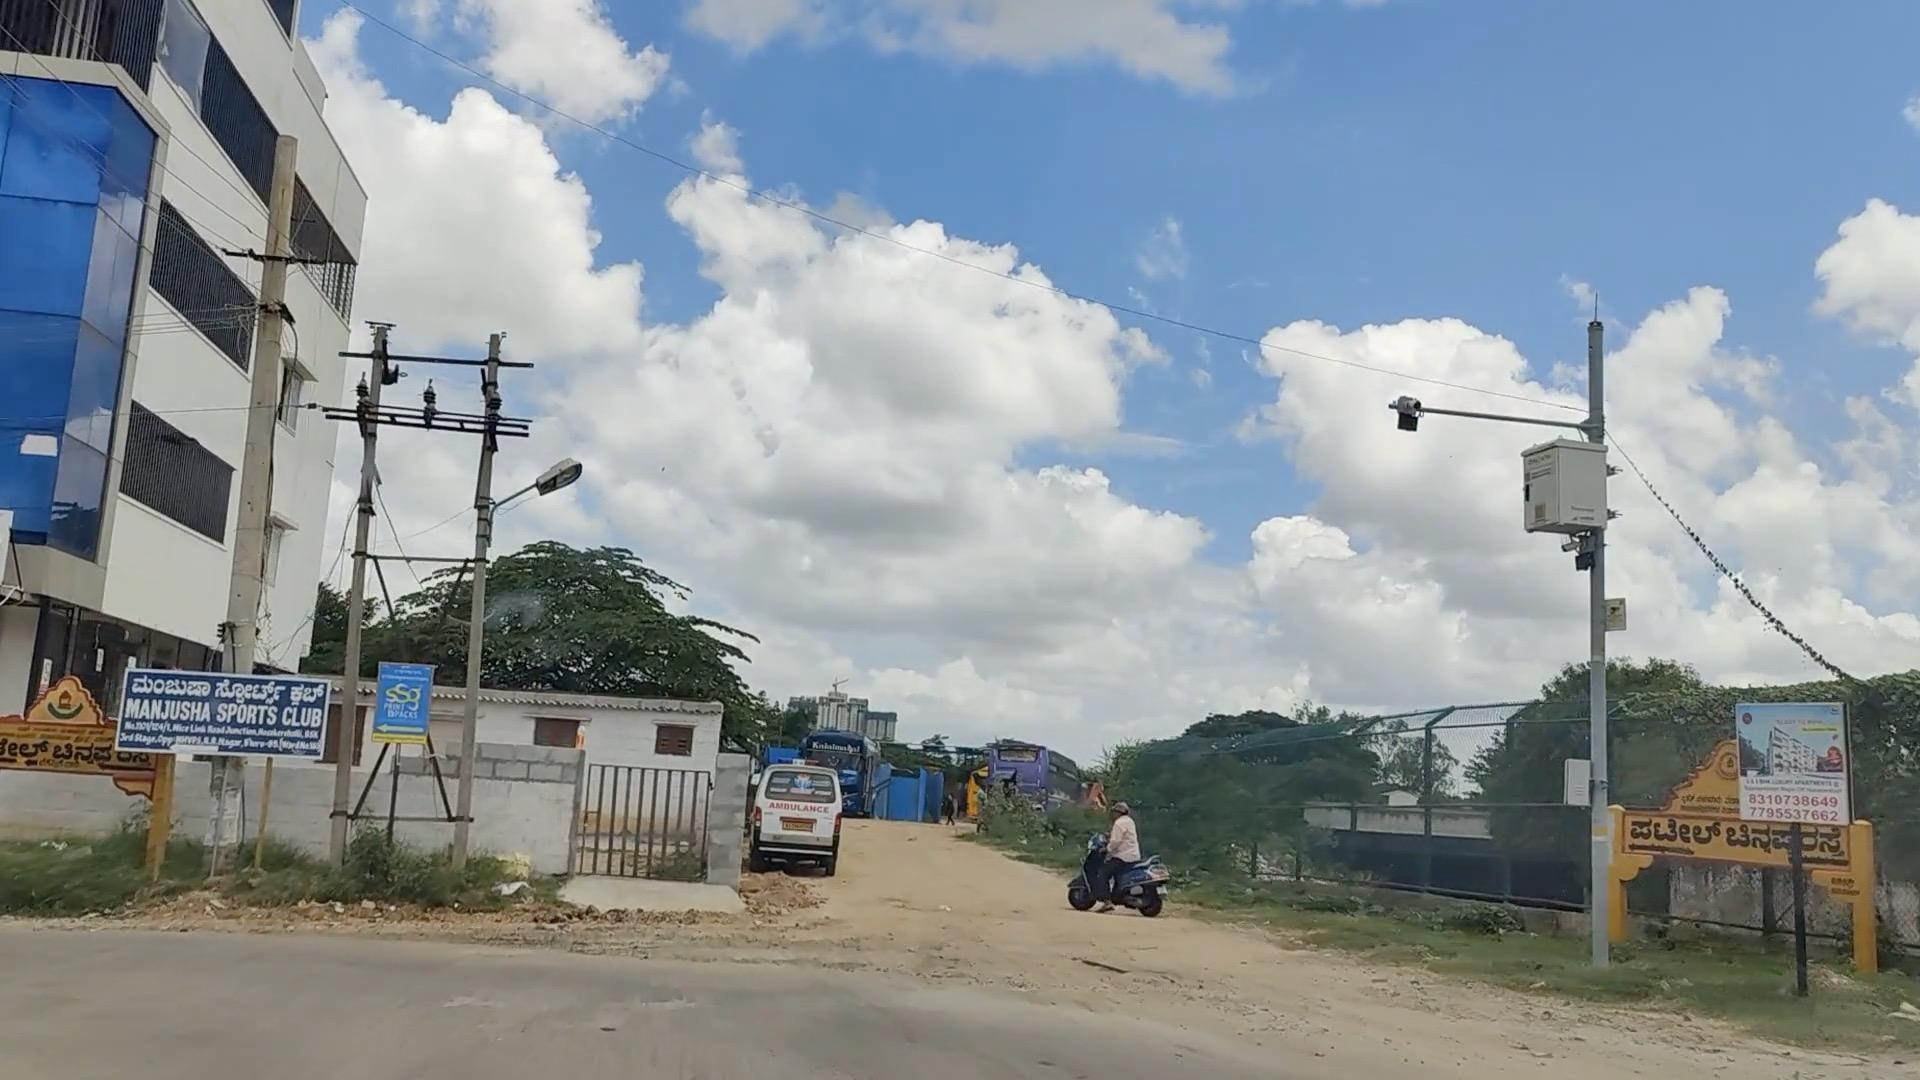LMV: (1069, 800, 1160, 905), (760, 767, 843, 870)
